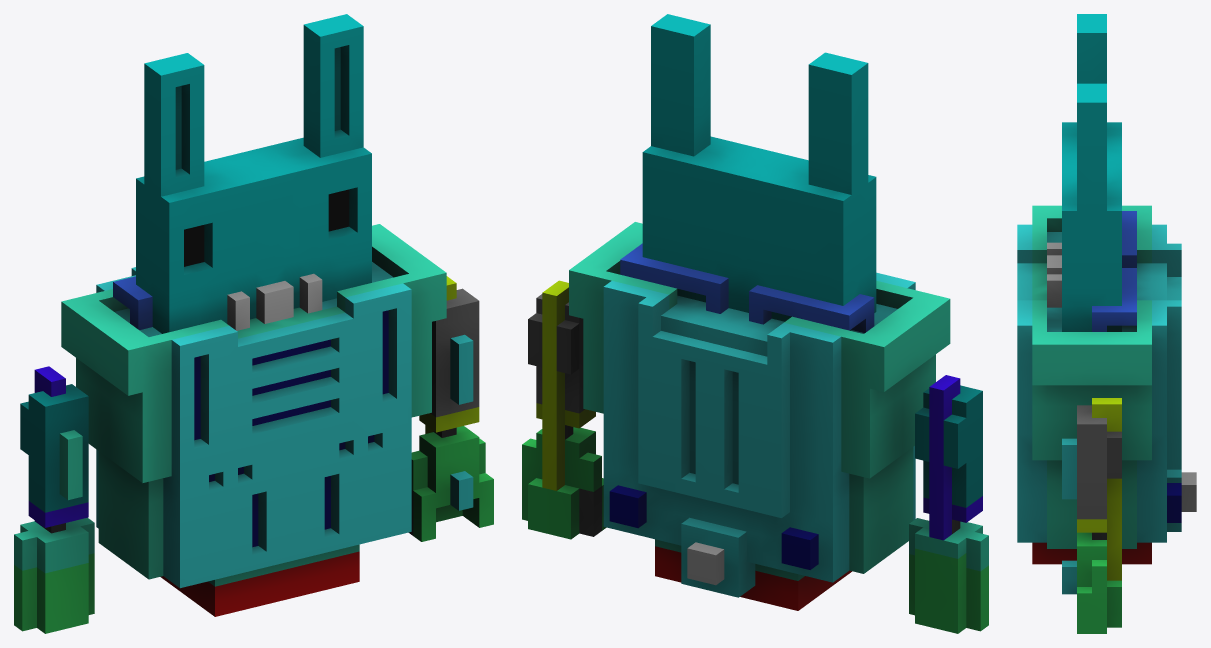
File: rabbitFreev2.fbx
3 renders of one model, left to right at view 1: azimuth 30°, elevation 25°; view 2: azimuth 150°, elevation 25°; view 3: azimuth 270°, elevation 25°, orthographic. The views are drawn at different scales.
Parts seen in each view (by area): view 1: RoboRabbit.bake, RoboRabbit.bake.002, RoboRabbit.bake.001; view 2: RoboRabbit.bake, RoboRabbit.bake.002, RoboRabbit.bake.001; view 3: RoboRabbit.bake, RoboRabbit.bake.001.
Part boxes in pixels (x1,y1,x2,y2): RoboRabbit.bake: (61, 14, 446, 616); RoboRabbit.bake.002: (14, 366, 94, 633); RoboRabbit.bake.001: (408, 276, 493, 541); RoboRabbit.bake: (569, 14, 950, 610); RoboRabbit.bake.002: (909, 375, 988, 633); RoboRabbit.bake.001: (522, 280, 606, 539); RoboRabbit.bake: (1017, 14, 1196, 564); RoboRabbit.bake.001: (1062, 398, 1121, 633).
Bounding box in the file's own units: 320 × 350 × 120.
